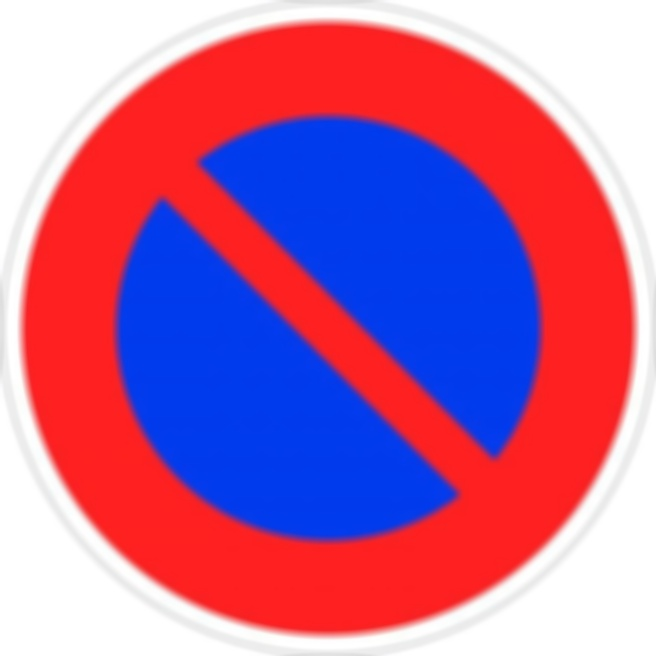Prohibition_sign: (14, 5, 654, 651)
